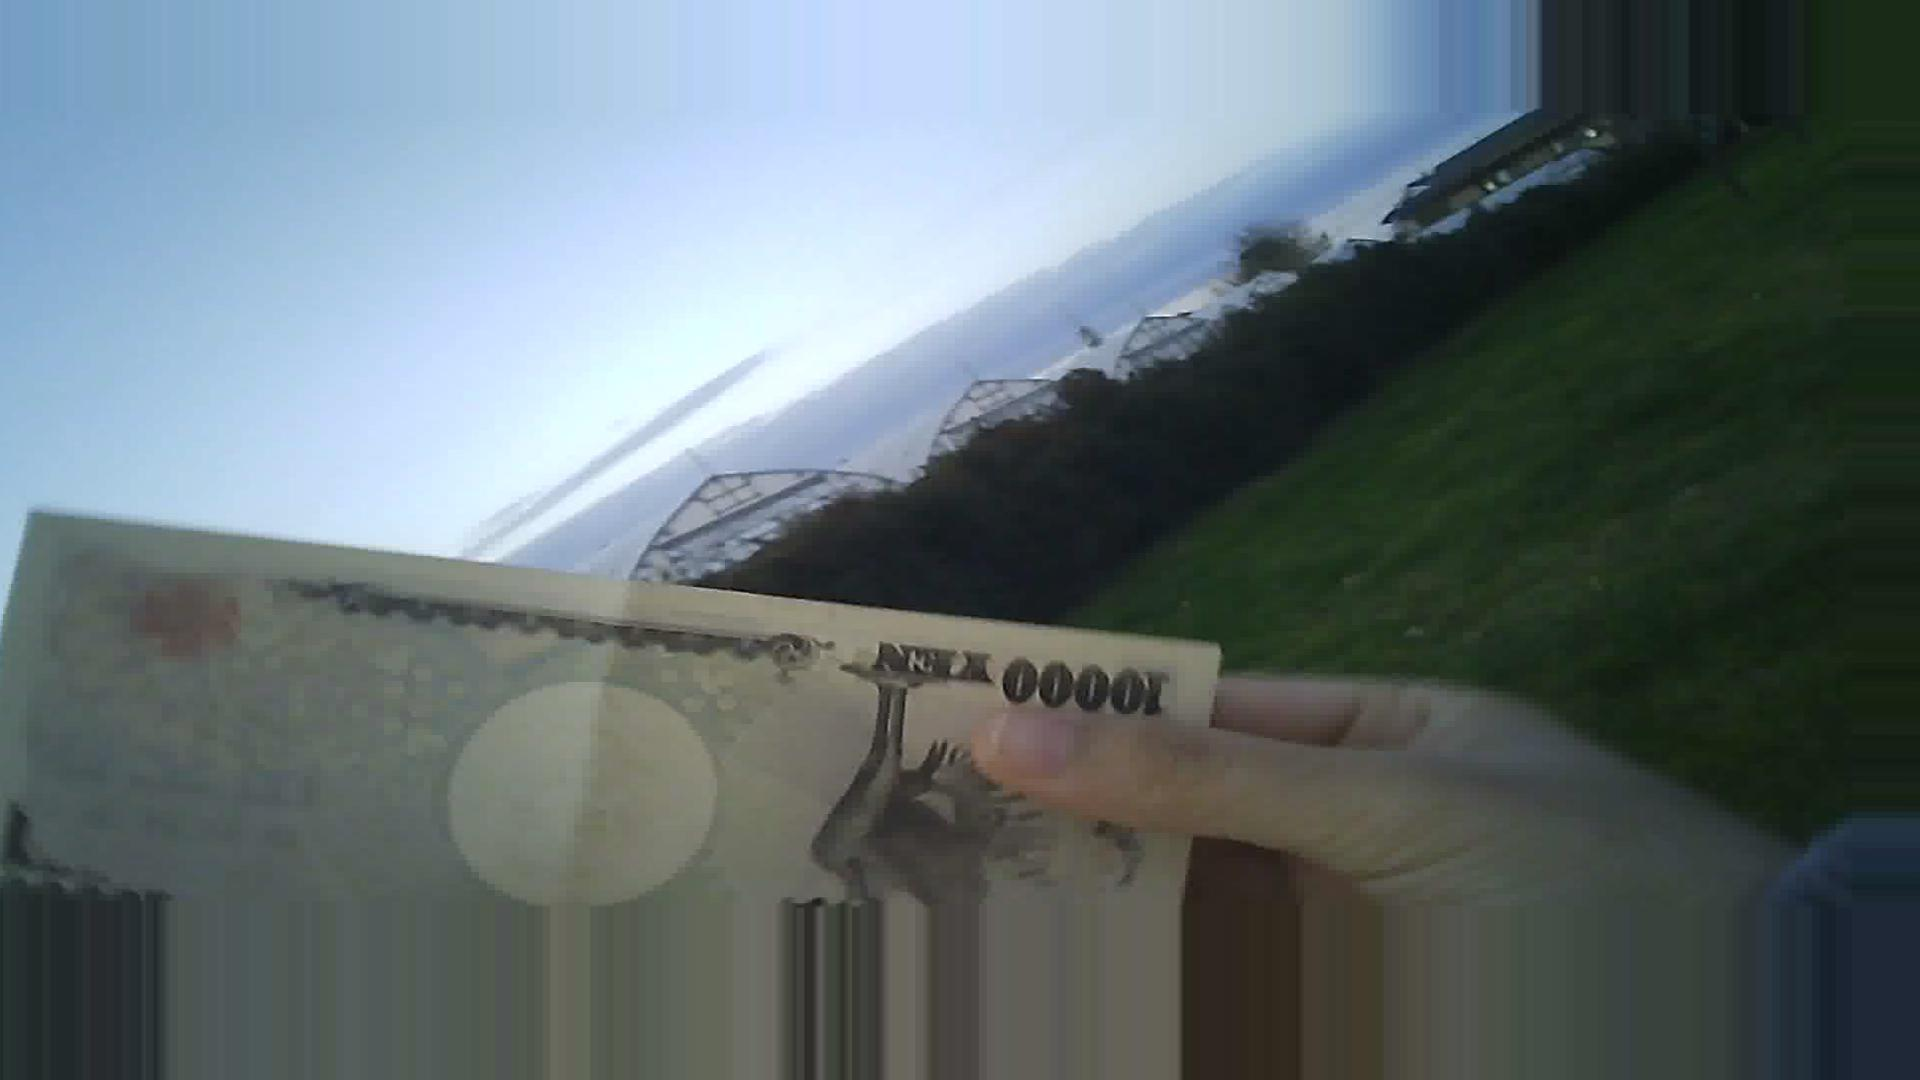10,000 Yen: (15, 505, 1251, 899)
